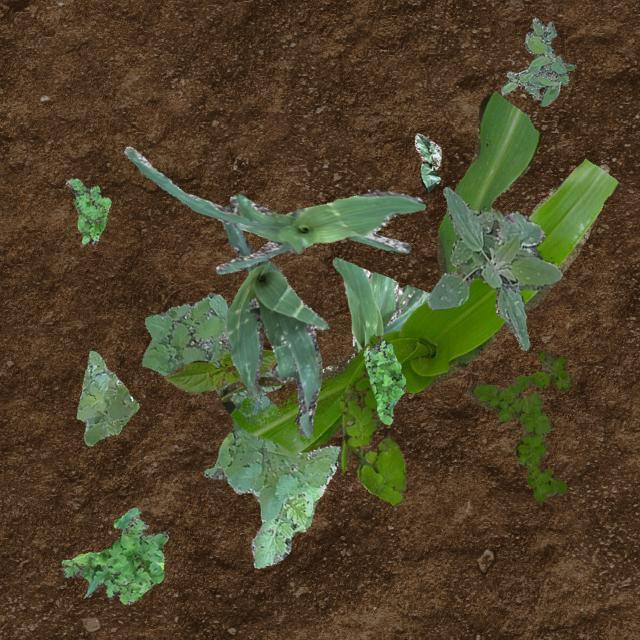crop: (218, 90, 618, 472), (123, 146, 424, 274), (221, 220, 327, 437), (428, 186, 562, 350), (324, 256, 430, 370), (162, 348, 276, 393), (414, 132, 439, 190)
weed: (140, 292, 340, 568), (466, 348, 570, 502), (338, 333, 408, 504), (61, 506, 168, 604), (500, 16, 574, 106), (75, 350, 138, 444), (362, 338, 404, 423), (64, 178, 110, 244)
